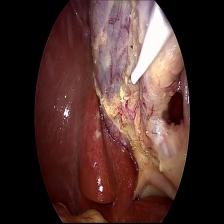Hook: (127, 4, 164, 98)
